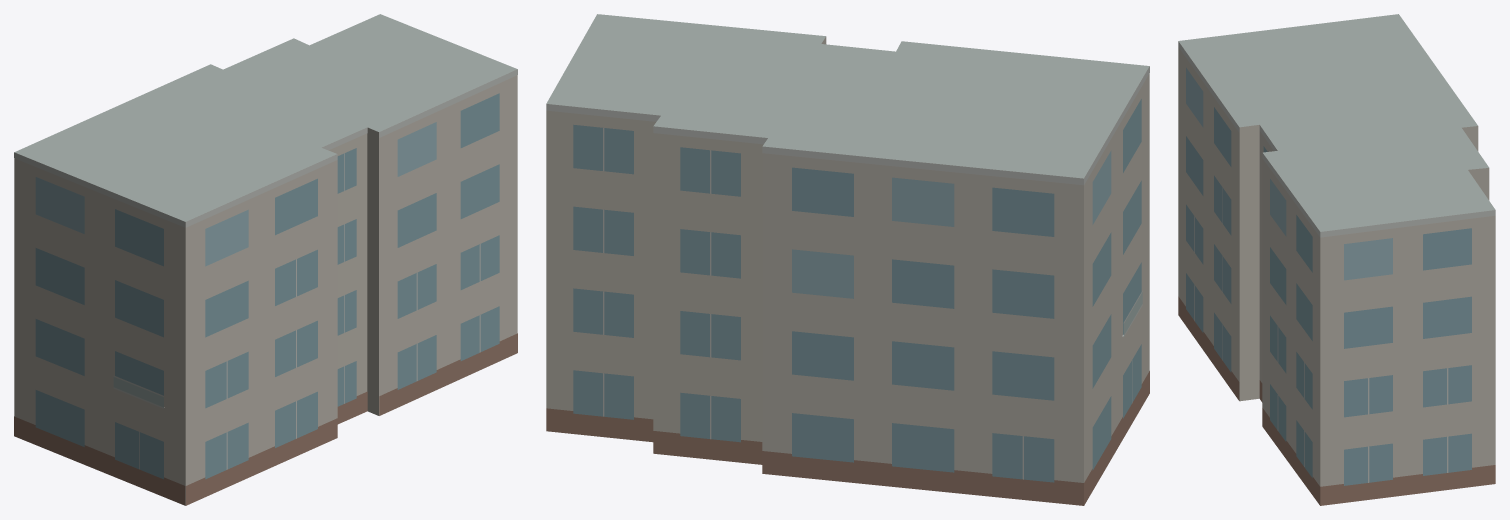
The model's file is survey-upis-32625374.glb.
3 views of the same model, side by side, from view 1: azimuth 30°, elevation 25°; view 2: azimuth 150°, elevation 25°; view 3: azimuth 270°, elevation 25° (orthographic). The views are drawn at different scales.
Parts seen in each view (by area): view 1: survey-upis-32625374.tmp; view 2: survey-upis-32625374.tmp; view 3: survey-upis-32625374.tmp.
Part boxes in pixels (x1=…): survey-upis-32625374.tmp: x1=14, y1=14, x2=517, y2=505; survey-upis-32625374.tmp: x1=546, y1=14, x2=1149, y2=505; survey-upis-32625374.tmp: x1=1178, y1=14, x2=1495, y2=505.
Bounding box in the file's own units: 20.14 × 11.8 × 12.4.
